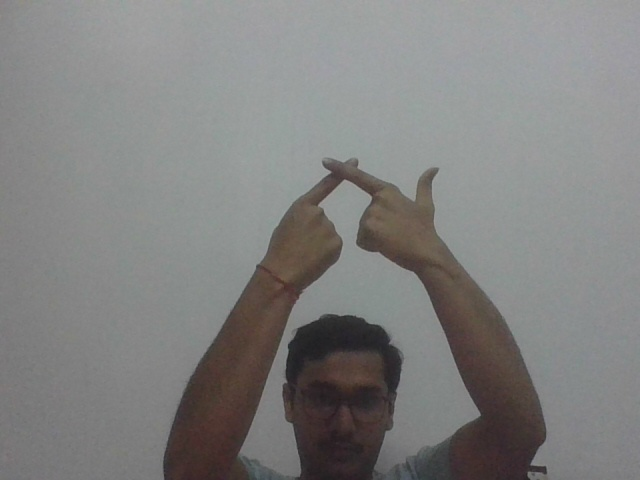J: (282, 155, 443, 271)
